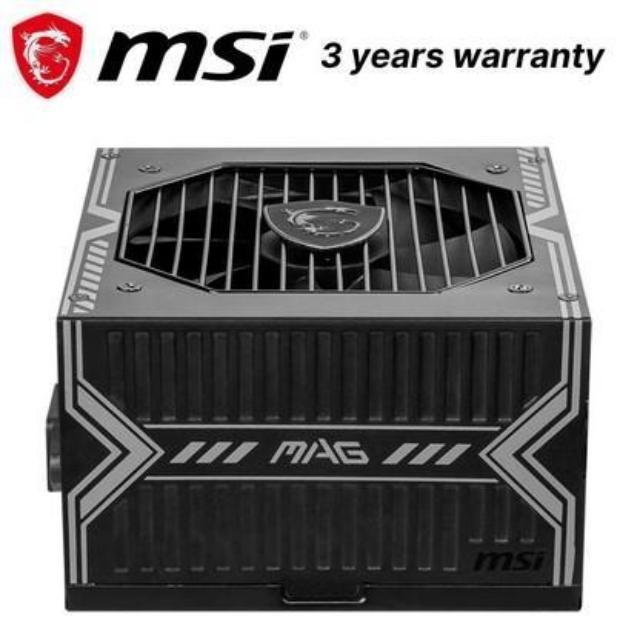PSU: (34, 121, 602, 624)
